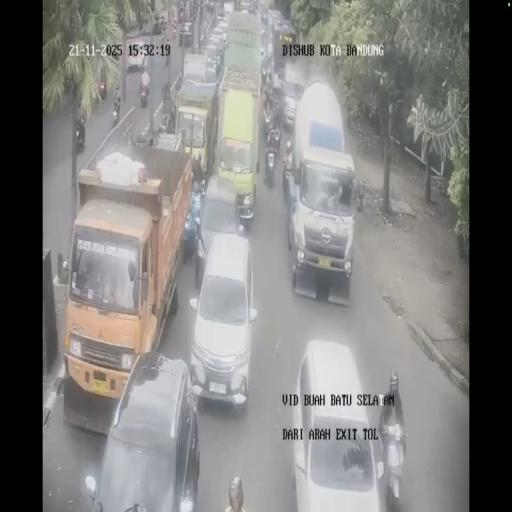car: (292, 340, 380, 508), (194, 173, 242, 281), (282, 63, 305, 131), (265, 66, 285, 124), (204, 42, 222, 80), (128, 43, 146, 72), (266, 8, 281, 35), (216, 16, 229, 43), (178, 22, 192, 46), (260, 4, 268, 26), (216, 3, 226, 20), (240, 0, 252, 14), (205, 0, 214, 12)
motorcycle: (380, 419, 406, 506), (264, 148, 276, 186), (76, 122, 86, 152), (140, 86, 148, 108), (112, 103, 119, 127), (162, 82, 170, 102), (165, 44, 171, 67), (160, 16, 166, 36), (138, 16, 144, 32), (172, 19, 176, 39)
truck: (61, 146, 187, 418), (286, 80, 356, 301), (174, 70, 218, 180), (222, 9, 264, 81), (174, 0, 184, 20)
